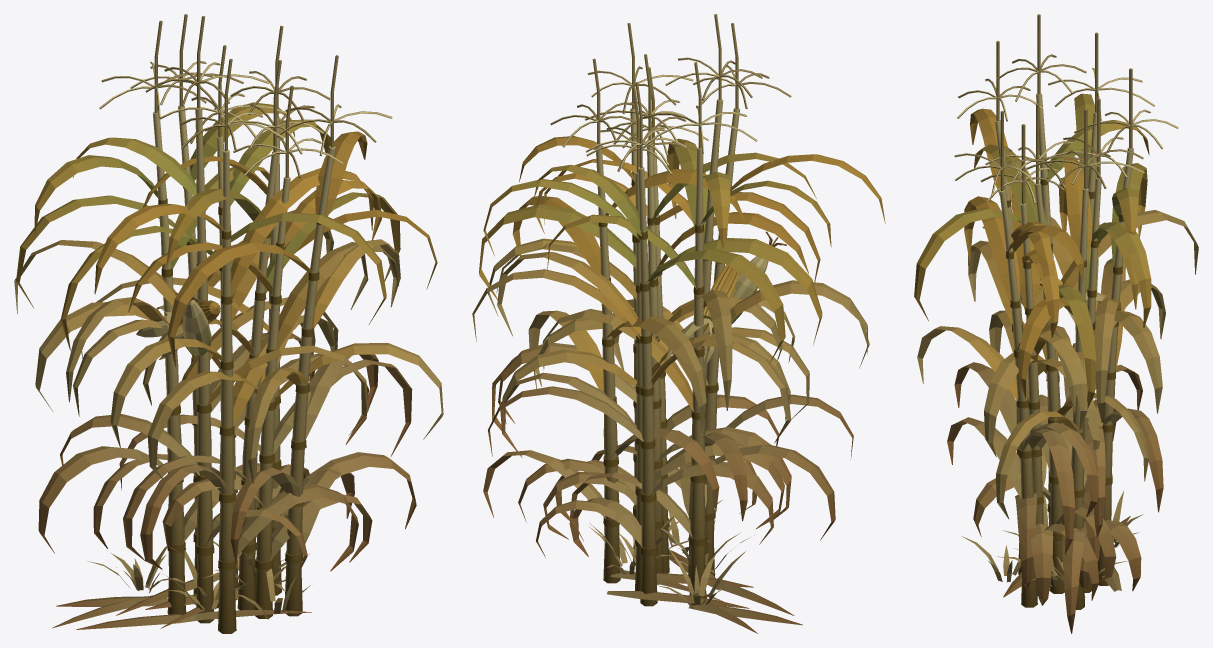
The model's file is autumn-corn-stalk-cluster.glb.
3 views of the same model, side by side, from view 1: azimuth 30°, elevation 25°; view 2: azimuth 150°, elevation 25°; view 3: azimuth 270°, elevation 25° (orthographic). The views are drawn at different scales.
Parts seen in each view (by area): view 1: autumn_corn_stalk_cluster; view 2: autumn_corn_stalk_cluster; view 3: autumn_corn_stalk_cluster.
Part boxes in pixels (<box>): autumn_corn_stalk_cluster: <box>14,14,443,633</box>; autumn_corn_stalk_cluster: <box>472,14,885,633</box>; autumn_corn_stalk_cluster: <box>914,14,1198,633</box>.
Bounding box in the file's own units: 1.59 × 2.45 × 1.14.
